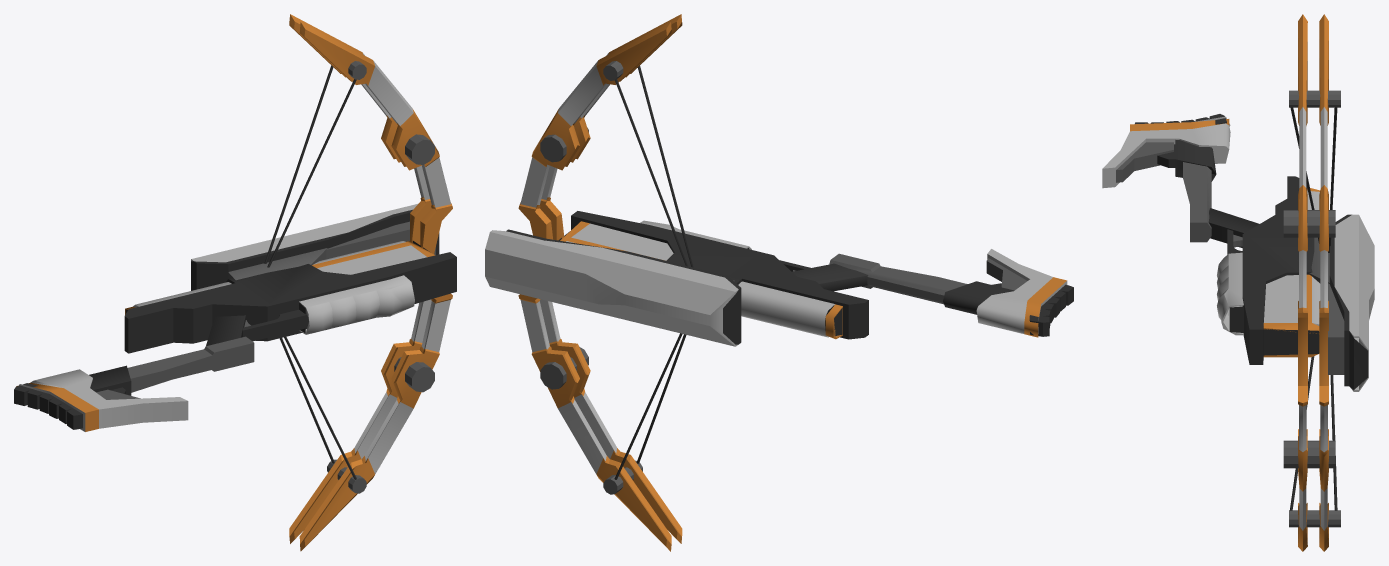
Rendered from qg-crossbow-1-lod2.glb.
The picture shows the model from 3 angles, left to right: view 1: azimuth 30°, elevation 25°; view 2: azimuth 150°, elevation 25°; view 3: azimuth 270°, elevation 25°; orthographic projection.
Visible parts, largest first — view 1: WeaponMesh_qg-crossbow-1_Crossbow_1; view 2: WeaponMesh_qg-crossbow-1_Crossbow_1; view 3: WeaponMesh_qg-crossbow-1_Crossbow_1.
Boxes of the visible parts, left/top/right/bottom form: WeaponMesh_qg-crossbow-1_Crossbow_1: left=14, top=14, right=456, bottom=551; WeaponMesh_qg-crossbow-1_Crossbow_1: left=485, top=14, right=1073, bottom=551; WeaponMesh_qg-crossbow-1_Crossbow_1: left=1102, top=14, right=1374, bottom=551.
Bounding box in the file's own units: 1.07 × 1.1 × 0.5047.
